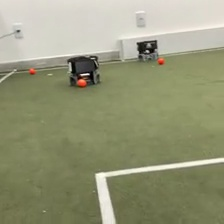ball: (75, 77, 88, 89), (157, 56, 165, 65), (28, 66, 36, 75)
goal: (115, 24, 224, 63)
robot: (65, 52, 101, 87), (135, 38, 160, 62)
